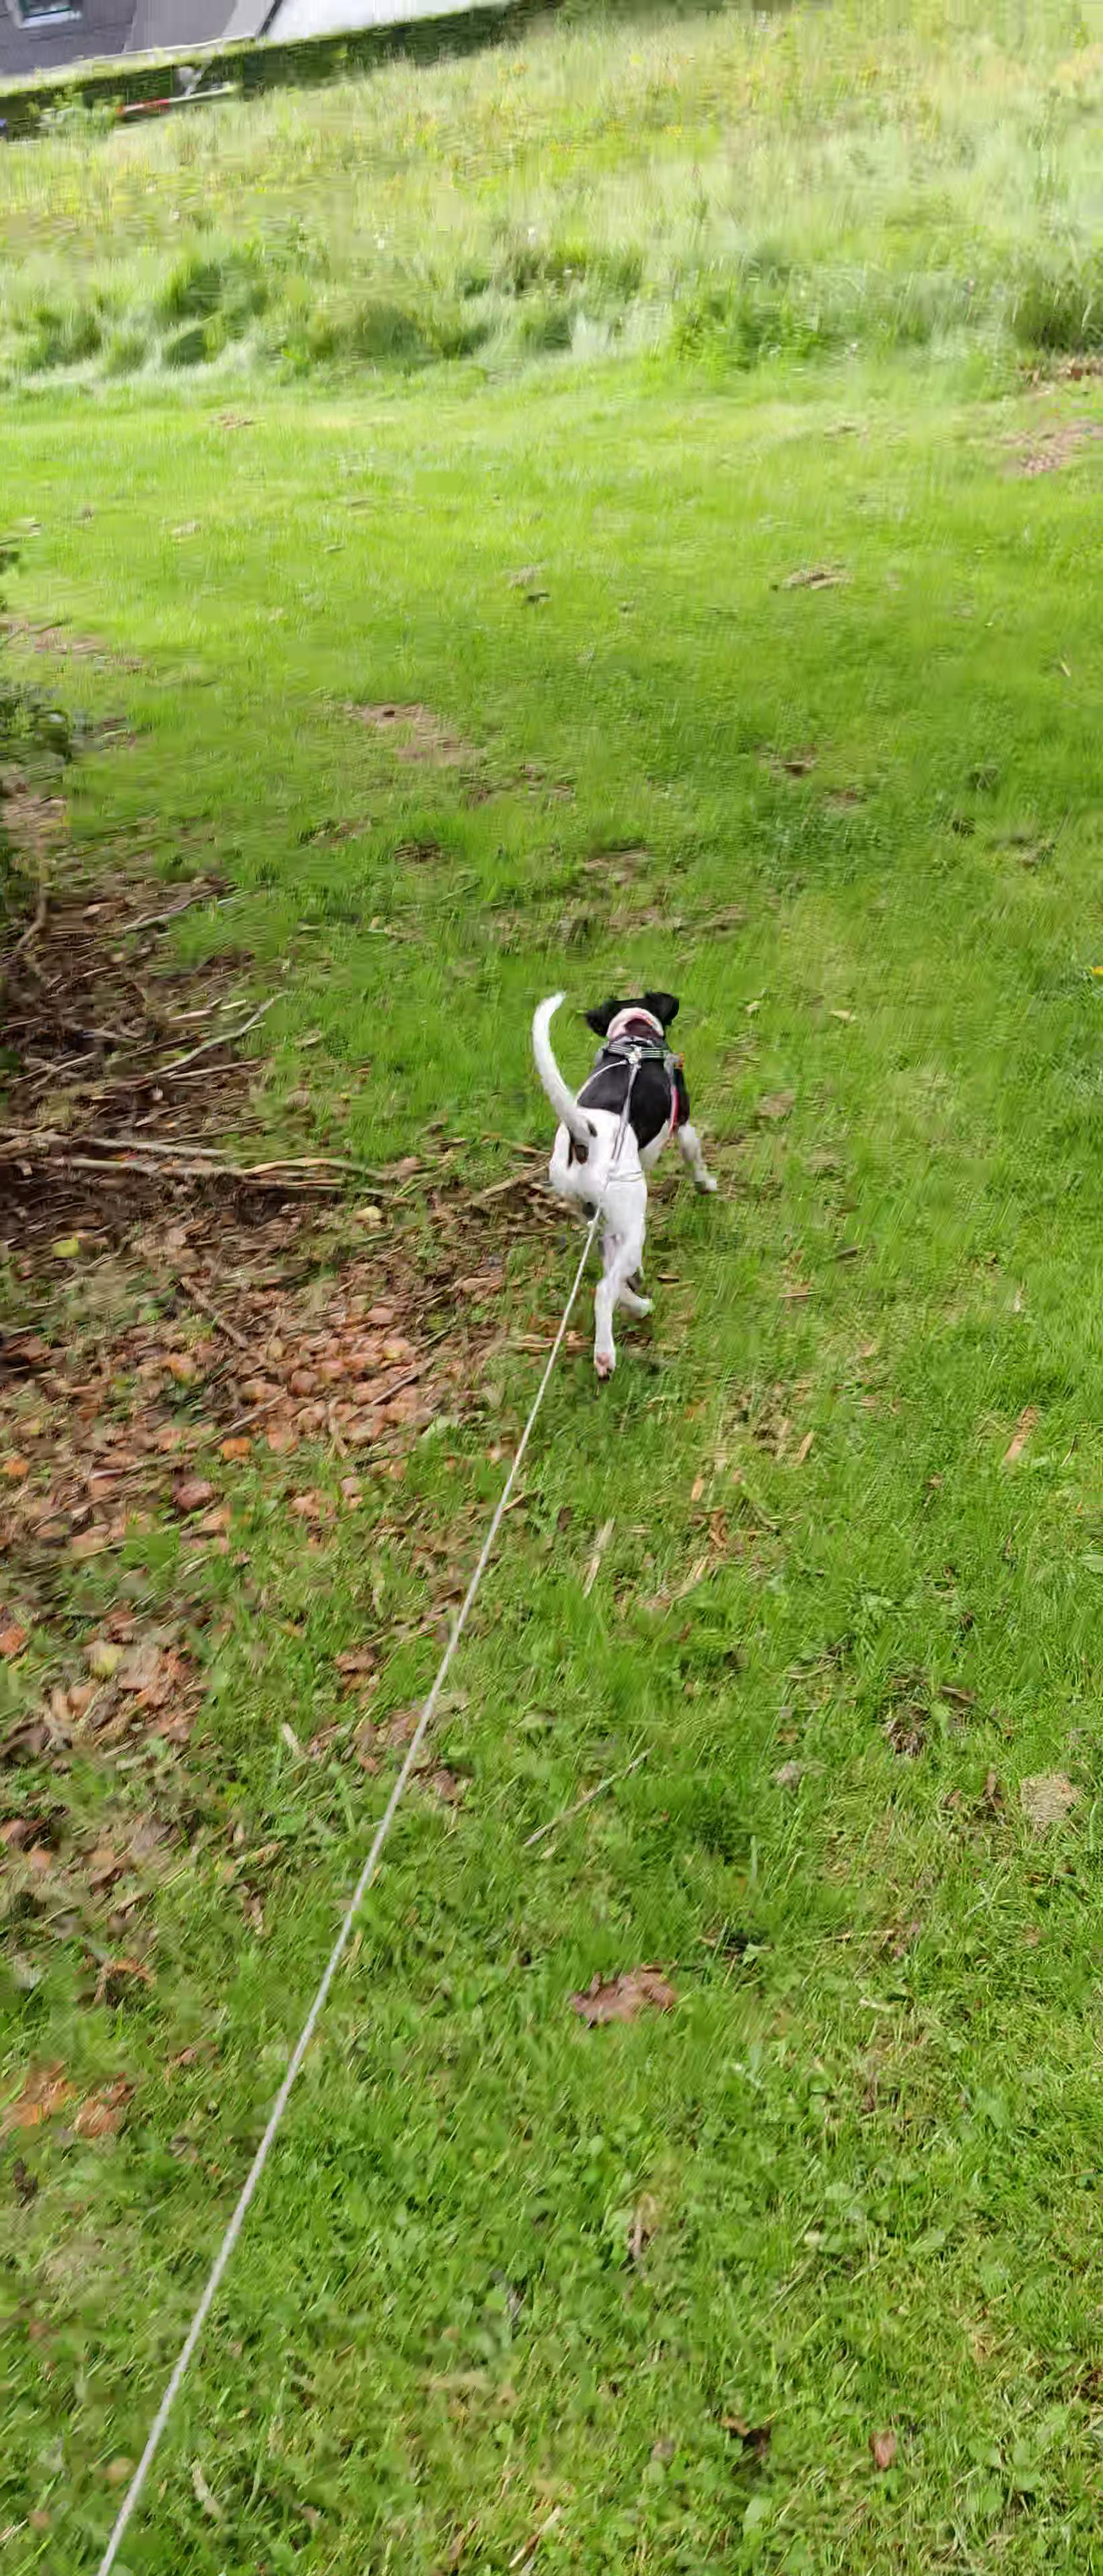Dog: (515, 979, 735, 1388)
